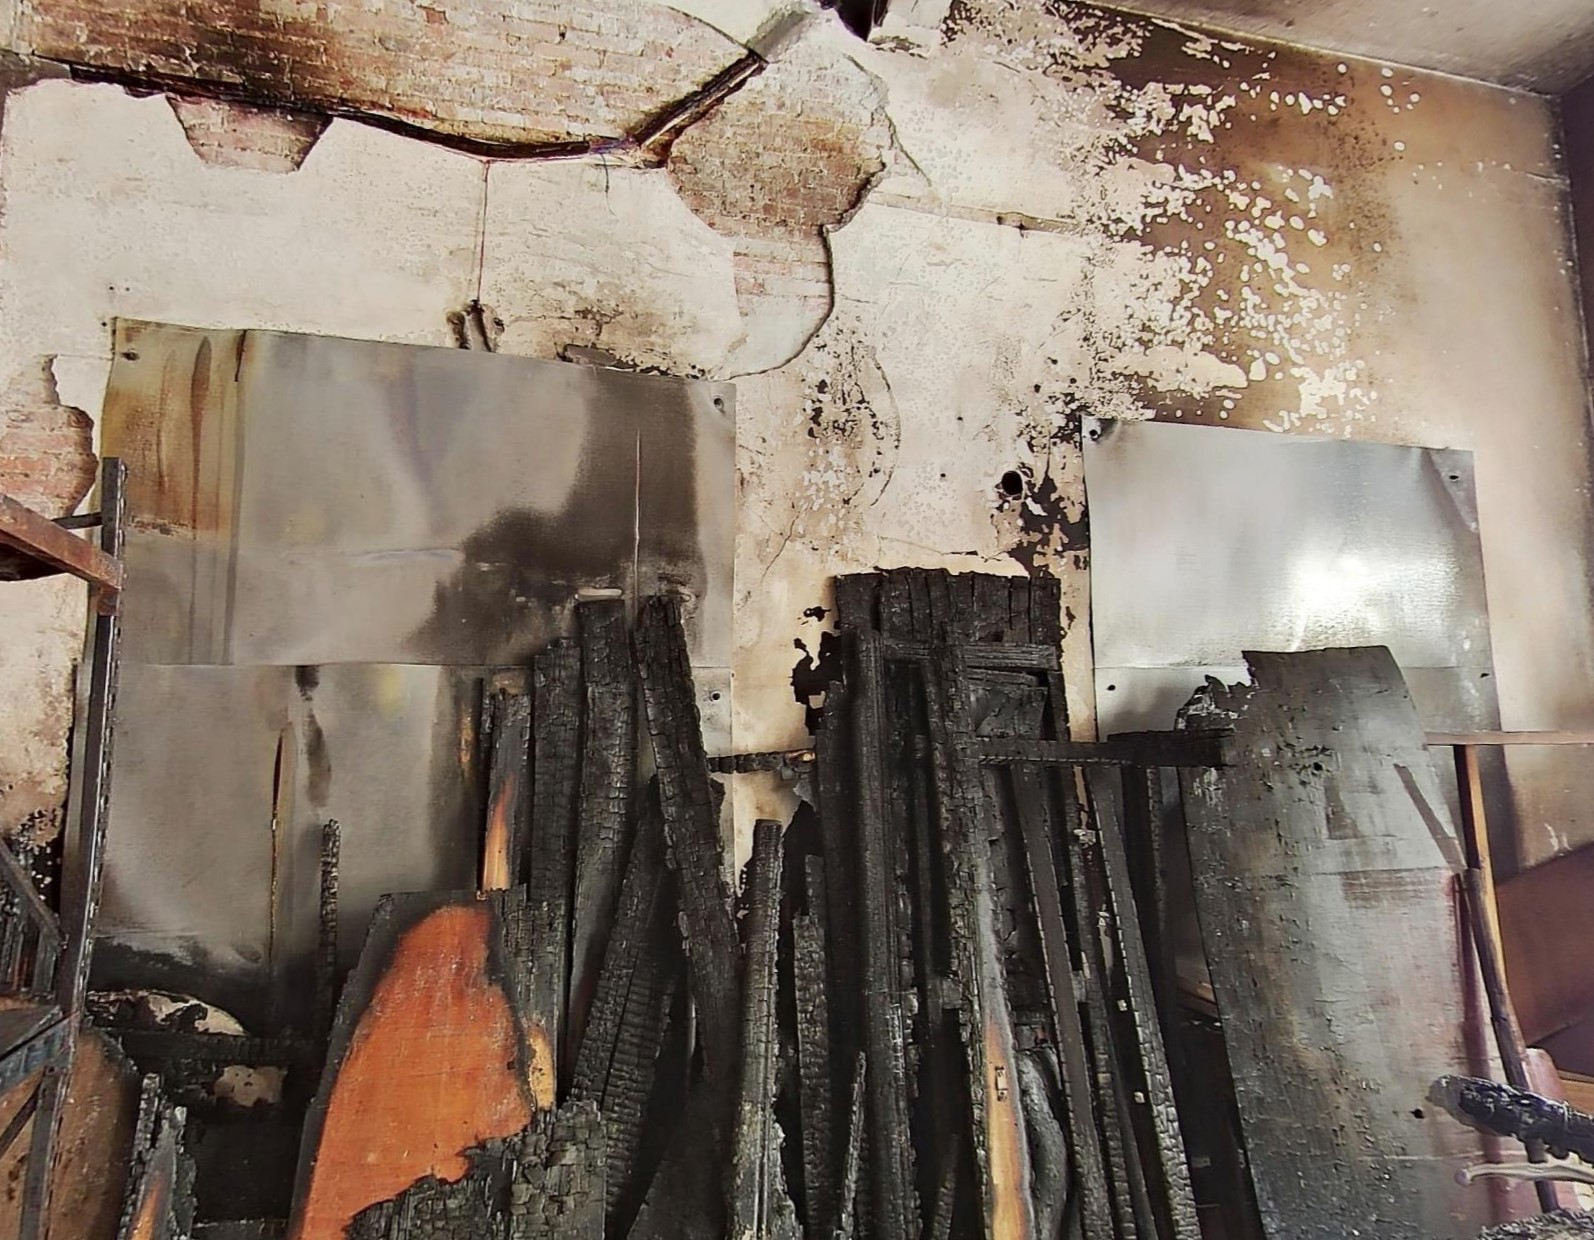Damage_level1: (1485, 482, 1594, 700), (1520, 747, 1594, 856), (737, 607, 794, 740)
Damage_level2: (1025, 28, 1531, 434), (728, 423, 888, 570), (6, 670, 71, 850)
Damage_level4: (38, 4, 954, 408), (957, 456, 1083, 579)
